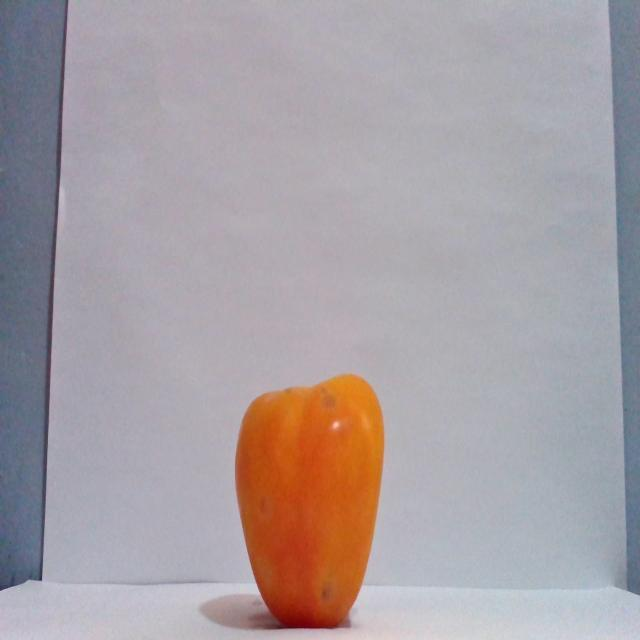Red: (232, 372, 386, 628)
